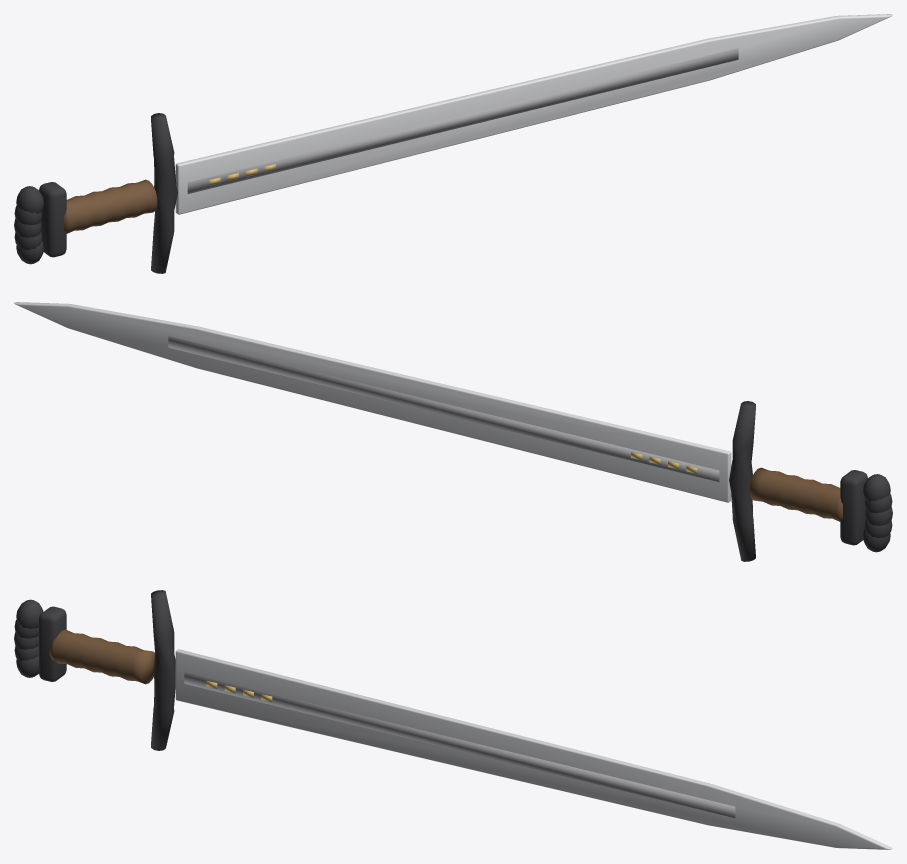
The model's file is SM_VikingSword.glb.
3 views of the same model, one above another, from view 1: azimuth 30°, elevation 25°; view 2: azimuth 150°, elevation 25°; view 3: azimuth 330°, elevation 25° (orthographic).
Parts seen in each view (by area): view 1: SM_VikingSword; view 2: SM_VikingSword; view 3: SM_VikingSword.
Part boxes in pixels (x1=…): SM_VikingSword: x1=14, y1=14, x2=892, y2=273; SM_VikingSword: x1=14, y1=302, x2=892, y2=561; SM_VikingSword: x1=14, y1=590, x2=892, y2=849.
Size of the model in its own units: 0.9539 by 0.162 by 0.0322.
